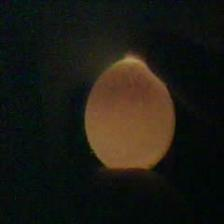infertile: (81, 56, 178, 174)
